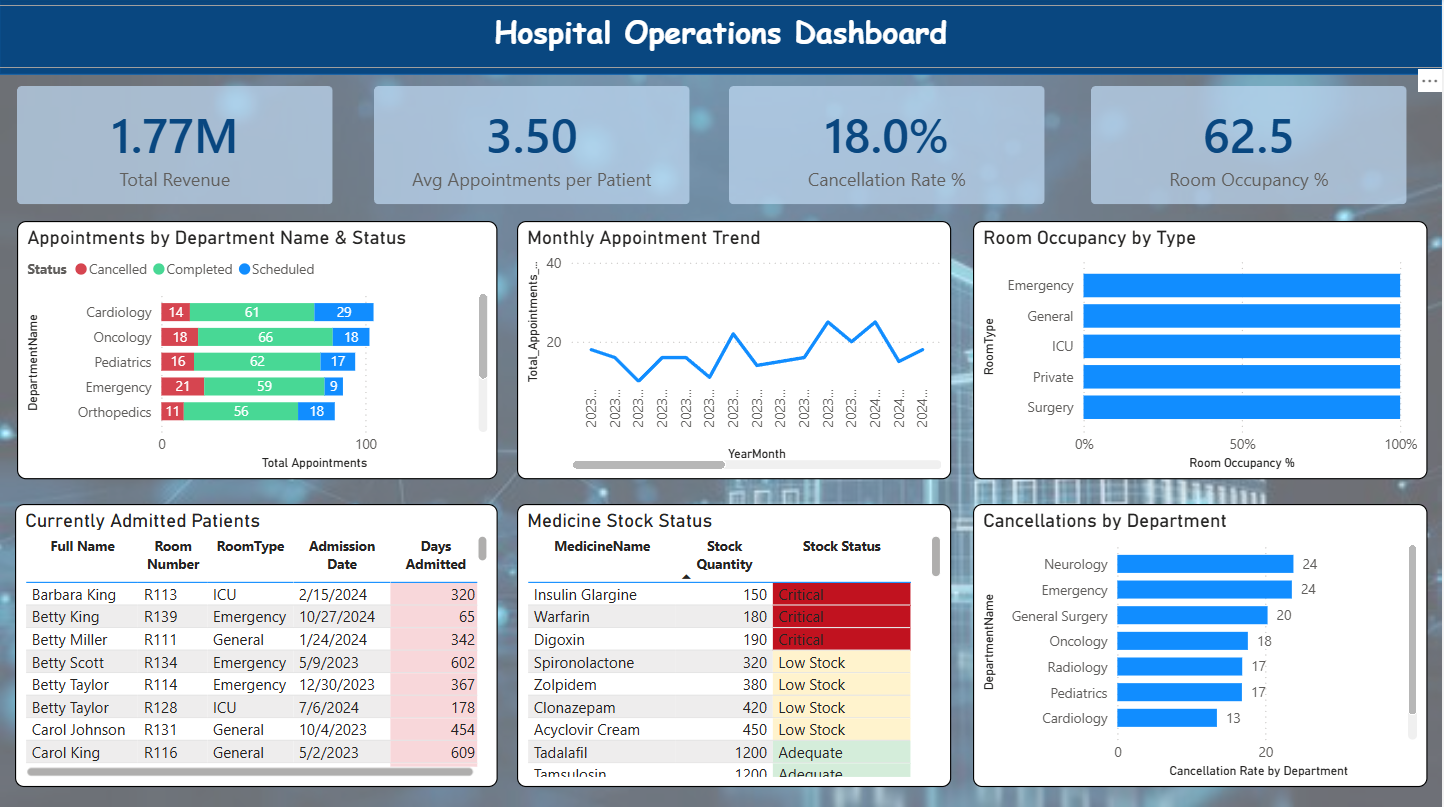

The page's visual inventory and layout, read from the dashboard file:
{"tool":"powerbi","page":{"name":"Overview","canvas":[1280,720],"ordinal":0},"visuals":[{"type":"shape","box":[0,0,1280,67.4],"z":0},{"type":"cardVisual","fields":{"Data":["Appointment.Total_Revenue_M"]},"box":[16.4,77.3,280,105.5],"z":2000},{"type":"cardVisual","fields":{"Data":["Appointment.Avg_Appointments_Per_Patient_M"]},"box":[332.7,77.3,280,105.5],"z":3000},{"type":"cardVisual","fields":{"Data":["Appointment.Cancellation_Rate_M"]},"box":[647.3,77.3,280,105.5],"z":4000},{"type":"cardVisual","fields":{"Data":["Appointment.Room_Occupancy_Rate_M"]},"box":[968.2,77.3,280,105.5],"z":5000},{"type":"barChart","title":"Appointments by Department Name & Status","fields":{"Category":["Department.DepartmentName"],"Series":["Appointment.Status"],"Y":["Appointment.Total_Appointments_M"]},"box":[16.4,197.3,426.4,229.1],"z":6000},{"type":"tableEx","title":"Medicine Stock Status","fields":{"Values":["Medicine.MedicineName","Medicine.StockQuantity","Appointment.Low_Stock_Flag_M"]},"box":[459.1,448.2,385.5,250.9],"z":7000},{"type":"barChart","title":"Cancellations by Department","fields":{"Category":["Department.DepartmentName"],"Y":["Appointment.Cancellation_Rate_By_Dept_M"]},"box":[863.6,448.2,402.7,250.9],"z":8000},{"type":"hundredPercentStackedBarChart","title":"Room Occupancy by Type","fields":{"Category":["Room.RoomType"],"Y":["Appointment.Room_Occupancy_Rate_M"]},"box":[863.6,197.3,402.7,229.1],"z":9000},{"type":"tableEx","title":"Currently Admitted Patients","fields":{"Values":["Patient.Full Name","Room.RoomNumber","Room.RoomType","RoomAssignment.AdmissionDate","Sum(RoomAssignment.Days Admitted)"]},"box":[14.5,448.2,428.2,250.9],"z":10000},{"type":"lineChart","title":"Monthly Appointment Trend","fields":{"Category":["Appointment.YearMonth"],"Y":["Appointment.Total_Appointments_M"]},"box":[459.1,197.3,385.5,229.1],"z":11000},{"type":"textbox","box":[0,5.5,1280,55.5],"z":11501}]}

Visuals, with their boxes in screenshot pixels (x1, y1, x2, y2), scaled from the page's 1280x720 canvas onto the 1444x807 screenshot:
shape: rect(0, 0, 1443, 76)
cardVisual - Appointment.Total_Revenue_M: rect(19, 87, 334, 205)
cardVisual - Appointment.Avg_Appointments_Per_Patient_M: rect(375, 87, 691, 205)
cardVisual - Appointment.Cancellation_Rate_M: rect(730, 87, 1046, 205)
cardVisual - Appointment.Room_Occupancy_Rate_M: rect(1092, 87, 1408, 205)
"Appointments by Department Name & Status" barChart: rect(19, 221, 500, 478)
"Medicine Stock Status" tableEx: rect(518, 502, 953, 784)
"Cancellations by Department" barChart: rect(974, 502, 1429, 784)
"Room Occupancy by Type" hundredPercentStackedBarChart: rect(974, 221, 1429, 478)
"Currently Admitted Patients" tableEx: rect(16, 502, 499, 784)
"Monthly Appointment Trend" lineChart: rect(518, 221, 953, 478)
textbox: rect(0, 6, 1443, 68)
